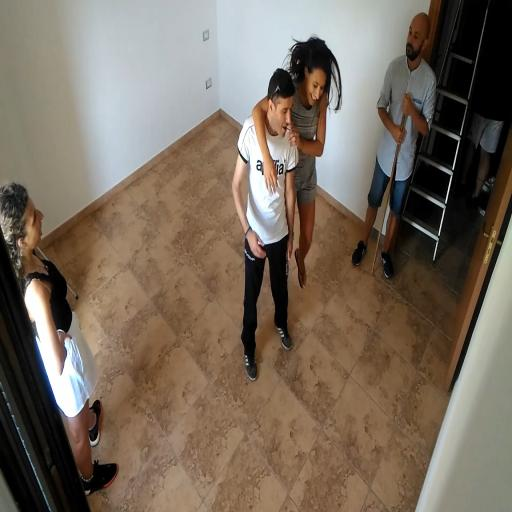nao-violencia: (222, 26, 348, 386)
